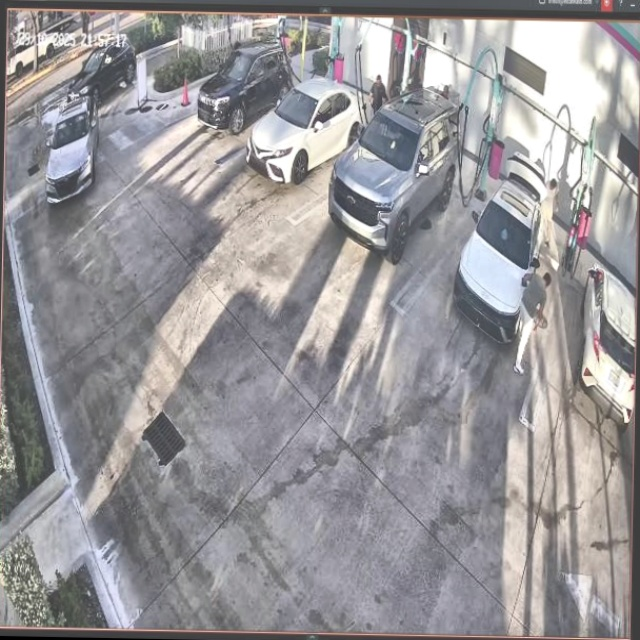Car: (329, 88, 461, 263), (456, 156, 552, 347), (248, 75, 368, 184)
